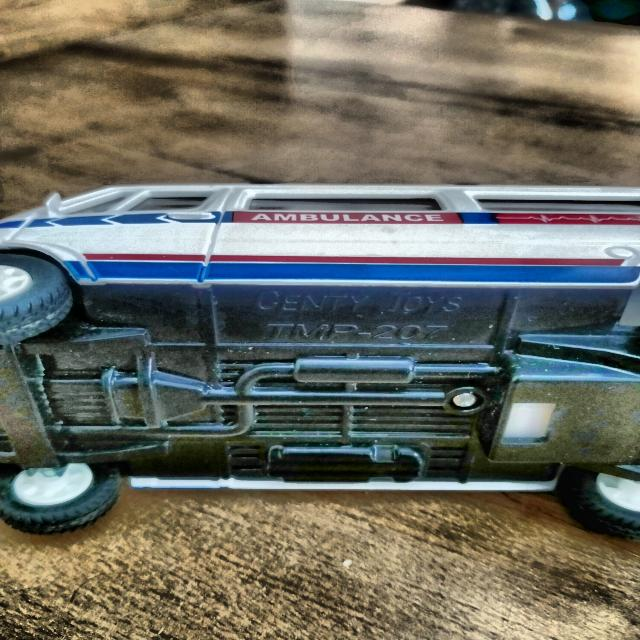Ambulance: (2, 168, 640, 560)
